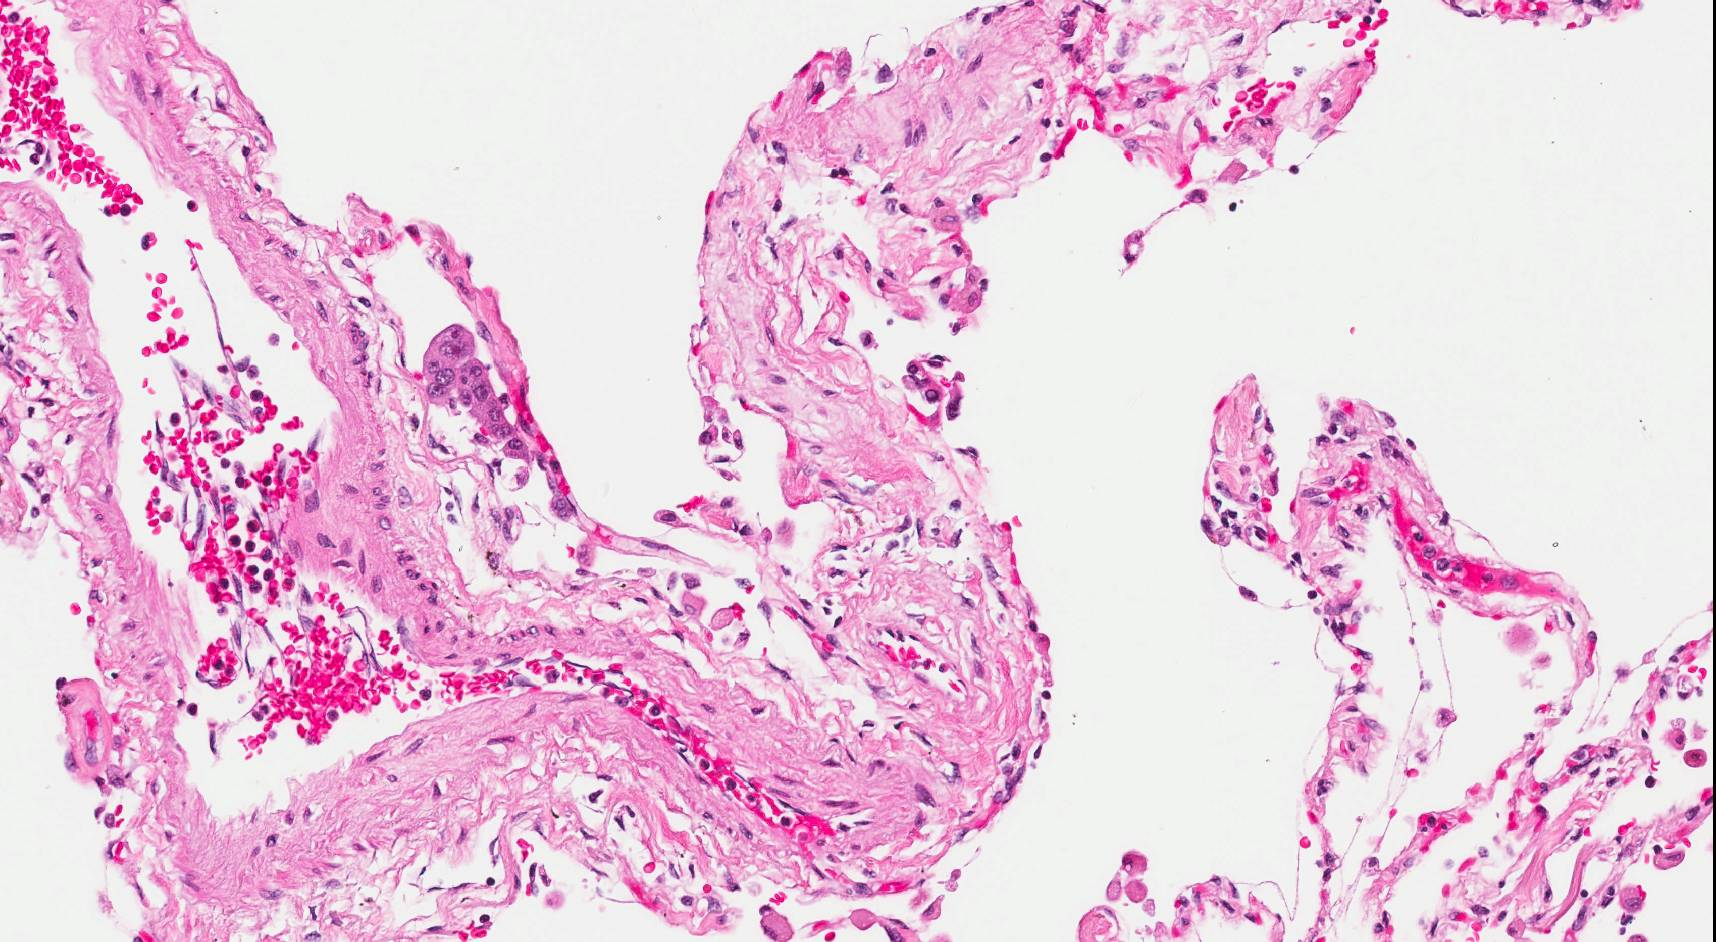stas: (421, 323, 536, 462)
